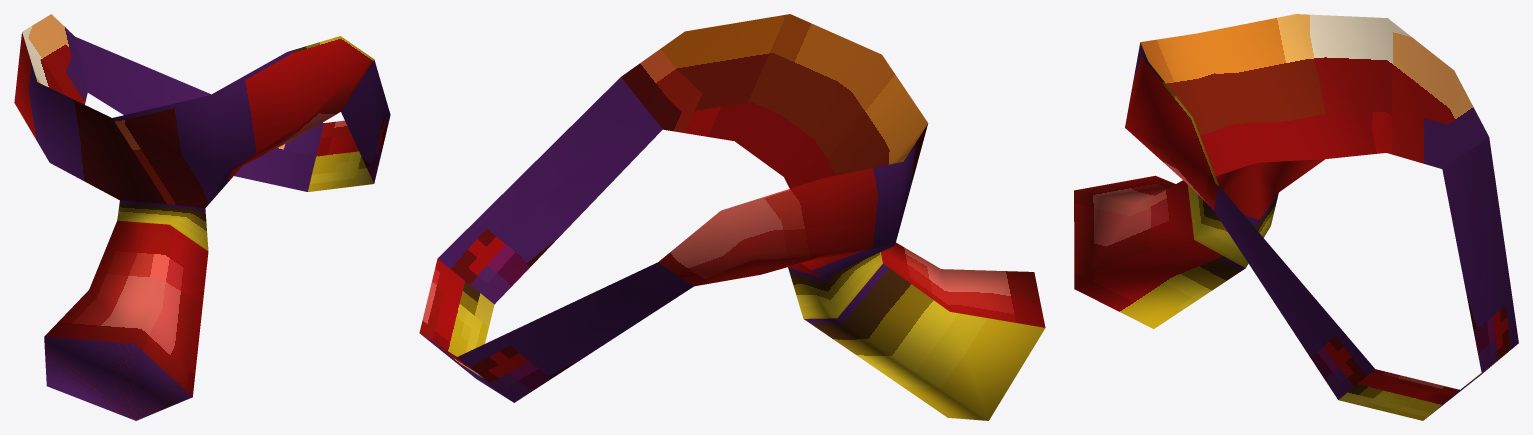
The model's file is fg_G_sling.dae.
The picture shows the model from 3 angles, left to right: view 1: azimuth 30°, elevation 25°; view 2: azimuth 150°, elevation 25°; view 3: azimuth 270°, elevation 25°; orthographic projection. The views are drawn at different scales.
Visible parts, largest first — view 1: fg_G_sling; view 2: fg_G_sling; view 3: fg_G_sling.
Part boxes in pixels (bbox=[...]): fg_G_sling: bbox=[14, 14, 390, 420]; fg_G_sling: bbox=[419, 14, 1045, 420]; fg_G_sling: bbox=[1074, 14, 1518, 420].
Bounding box in the file's own units: 17.28 × 12.18 × 14.37.
Materials: 1 (1 with a texture image).
